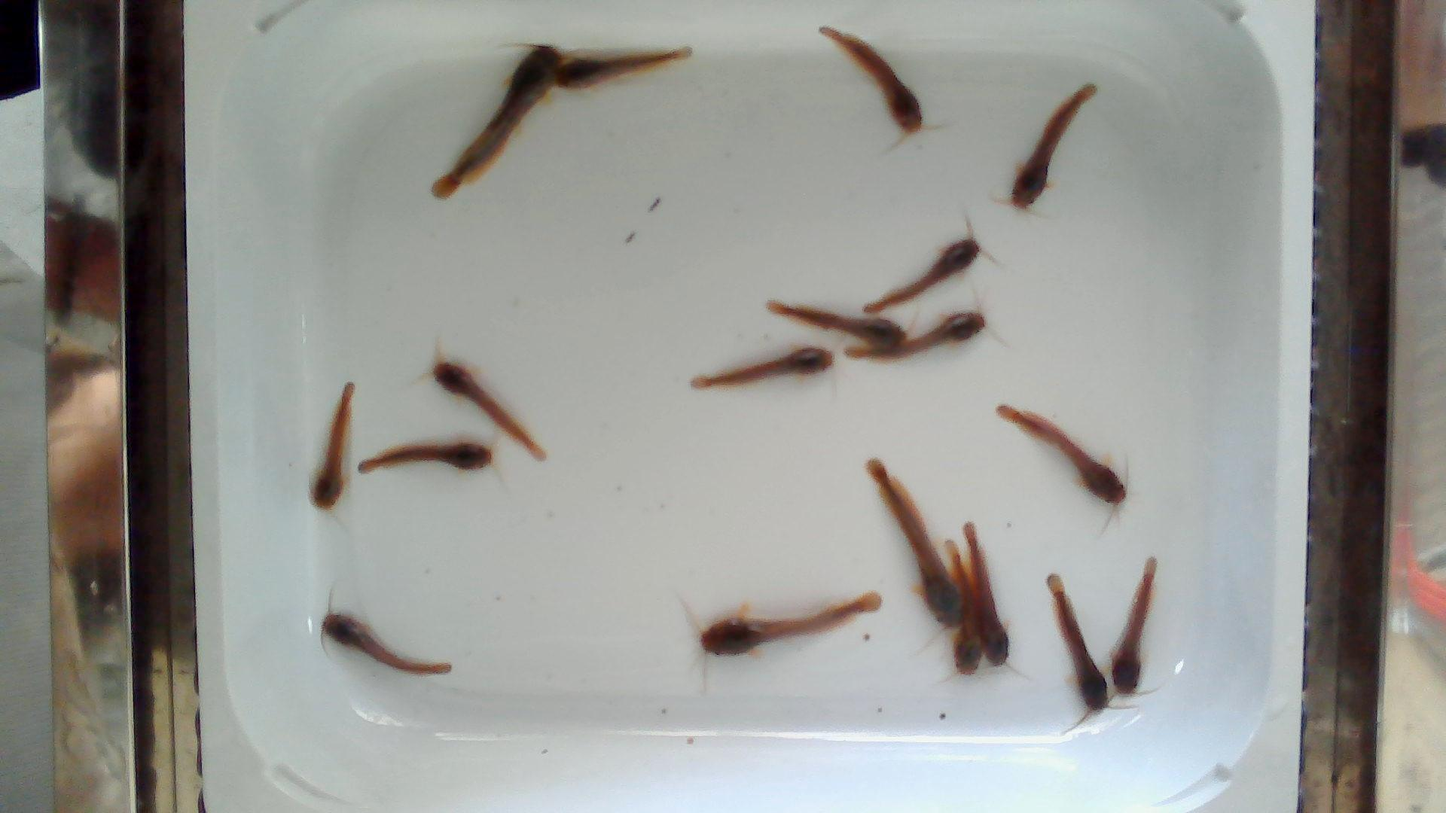lele: (431, 46, 561, 199), (866, 462, 964, 627), (996, 405, 1126, 505), (433, 358, 545, 460), (700, 592, 881, 655), (820, 28, 922, 133), (1011, 84, 1096, 208), (863, 228, 980, 312), (1048, 574, 1109, 711), (323, 613, 451, 674), (962, 521, 1009, 666), (848, 311, 985, 360), (768, 302, 906, 347), (553, 46, 693, 90), (1111, 559, 1156, 694), (691, 346, 833, 388), (310, 382, 354, 510), (945, 539, 983, 676), (358, 442, 492, 472)
